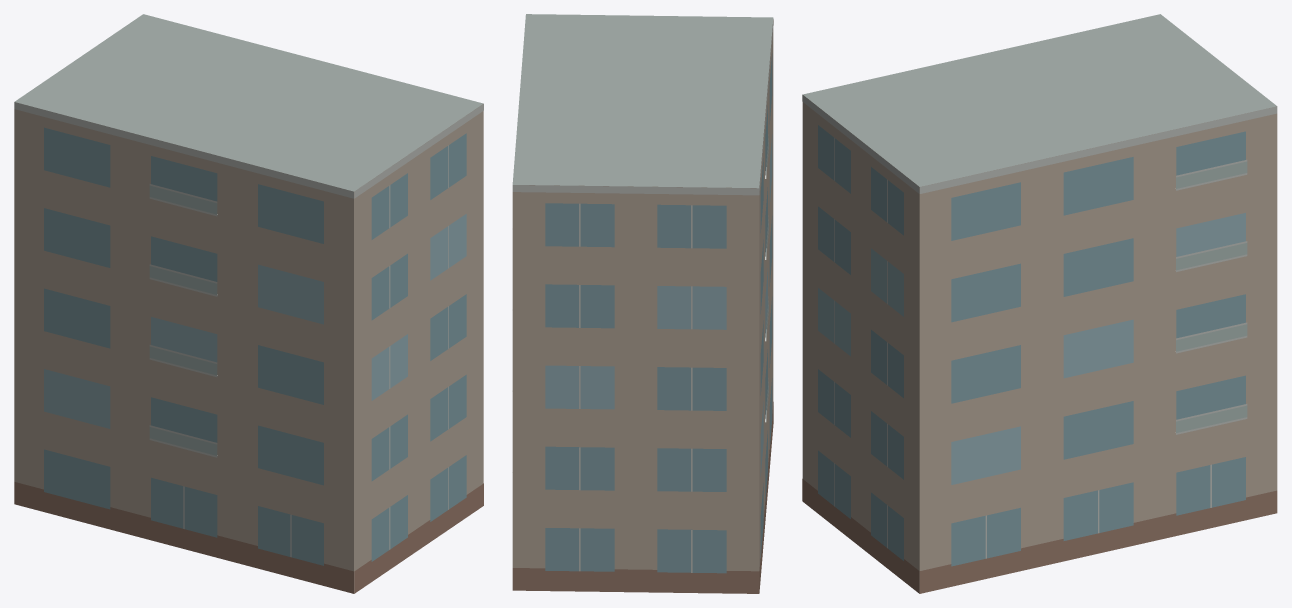
File: survey-upis-32884344.glb
3 renders of one model, left to right at view 1: azimuth 30°, elevation 25°; view 2: azimuth 150°, elevation 25°; view 3: azimuth 270°, elevation 25°, orthographic.
Visible parts, largest first — view 1: survey-upis-32884344.tmp; view 2: survey-upis-32884344.tmp; view 3: survey-upis-32884344.tmp.
Boxes of the visible parts, <box> form: survey-upis-32884344.tmp: <box>14,14,483,593</box>; survey-upis-32884344.tmp: <box>512,14,773,593</box>; survey-upis-32884344.tmp: <box>802,14,1277,593</box>.
Size of the model in its own units: 12.5 by 13.7 by 14.5.
